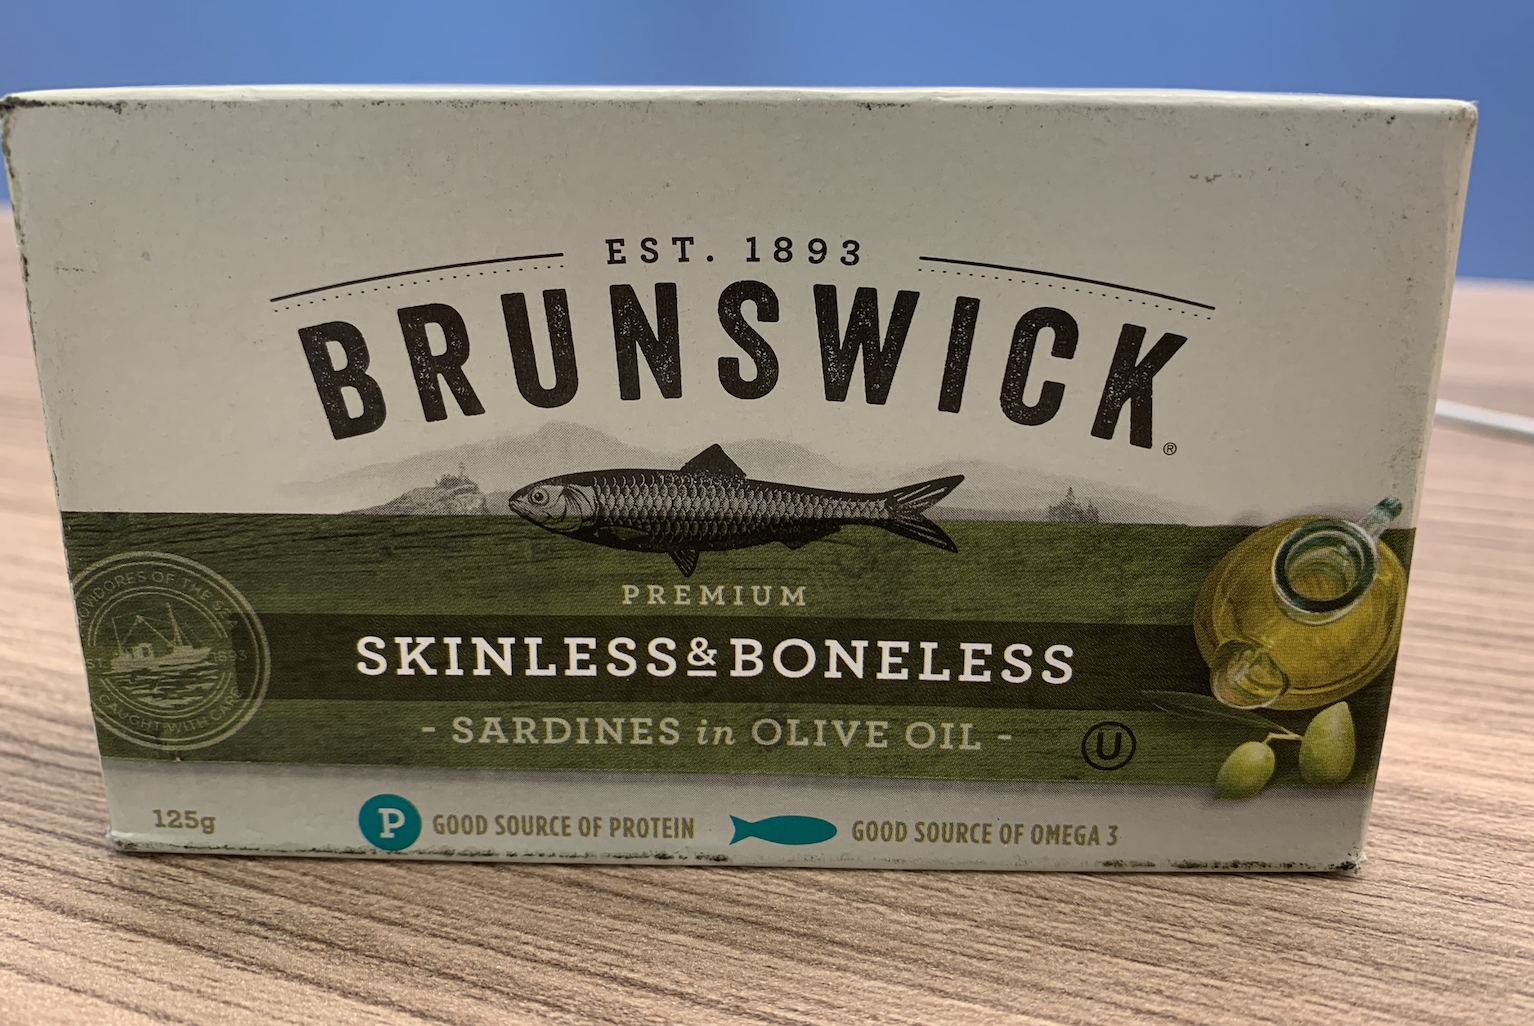sardines_150g: (97, 116, 1386, 859)
